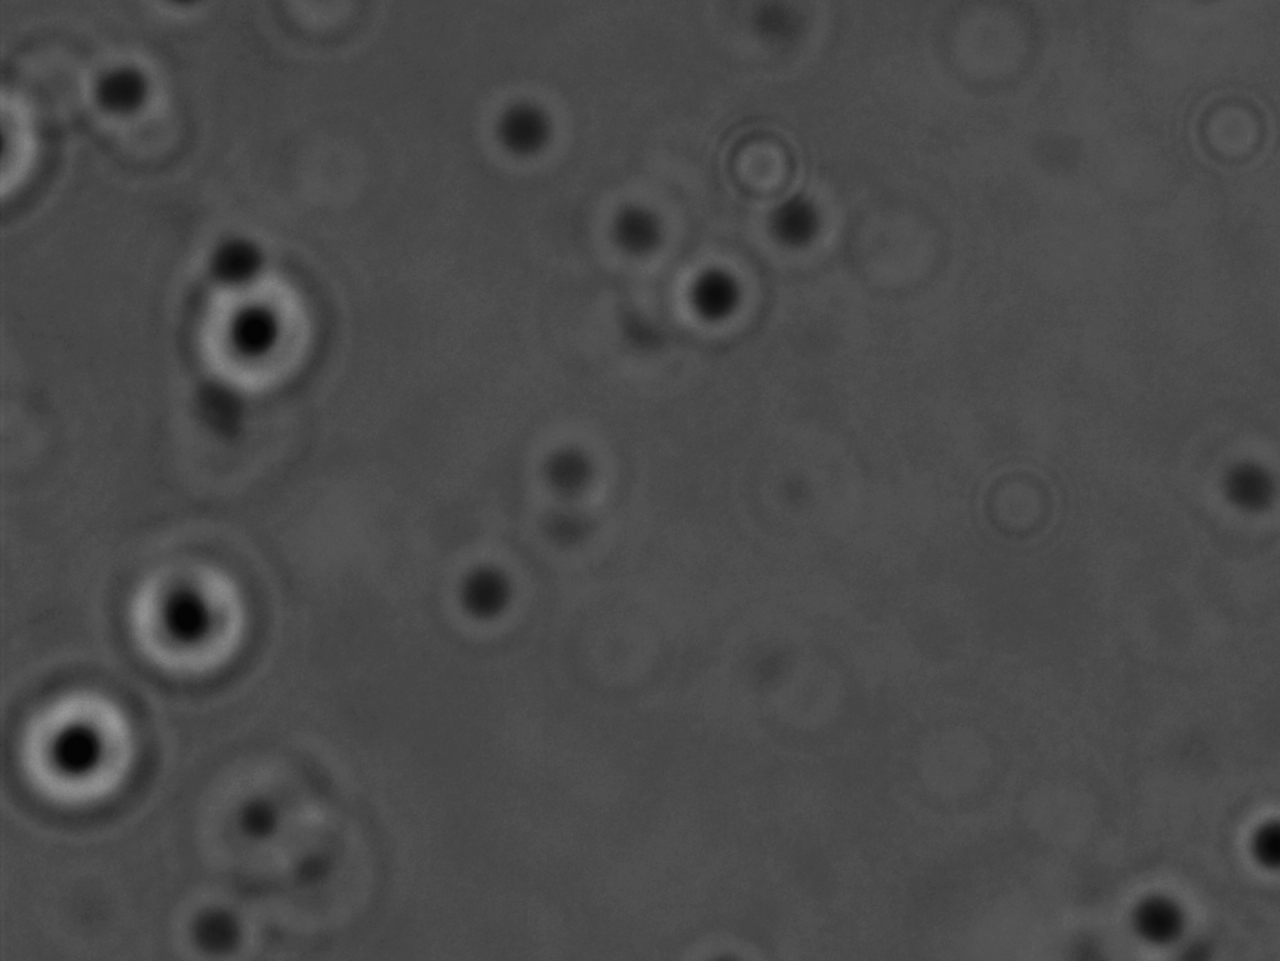depth:-32: (110, 529, 287, 706), (166, 253, 329, 422)
